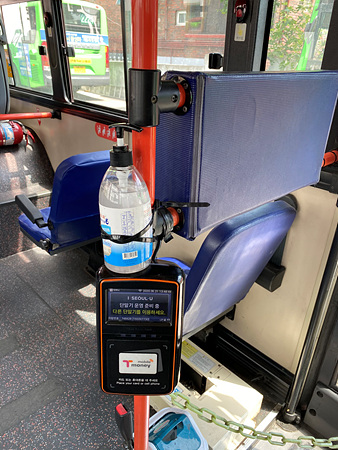terminal: (99, 271, 178, 392)
